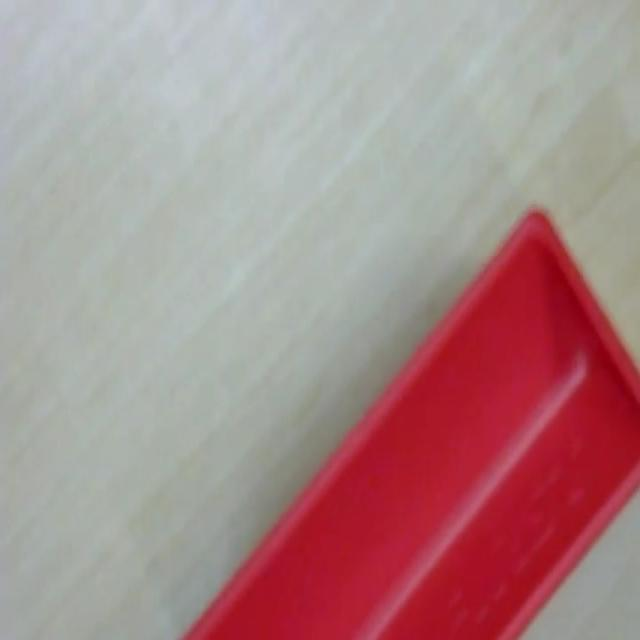red_block: (178, 204, 638, 637)
